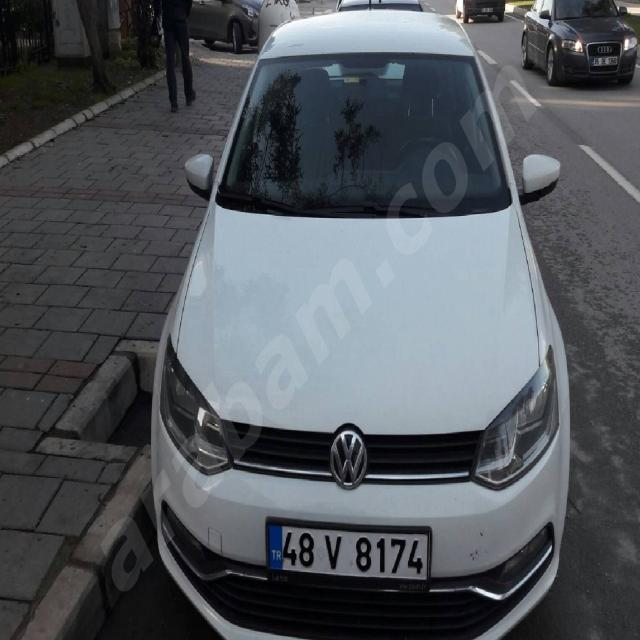license_plate: (267, 524, 428, 582)
